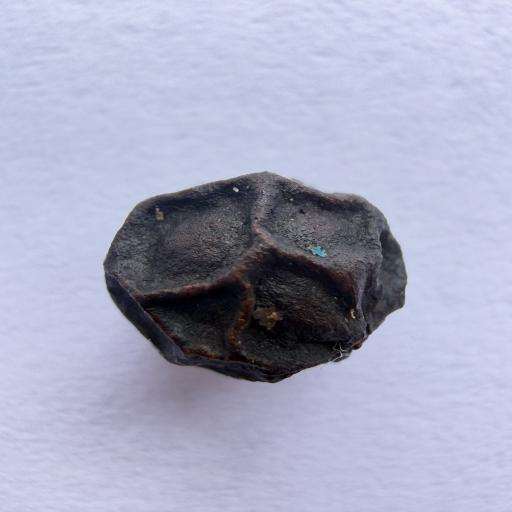Black_pepper: (44, 118, 466, 411)
